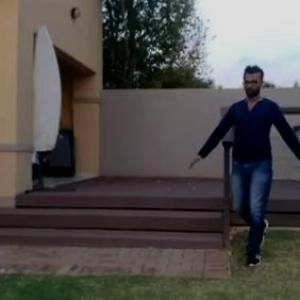land: (186, 64, 299, 272)
